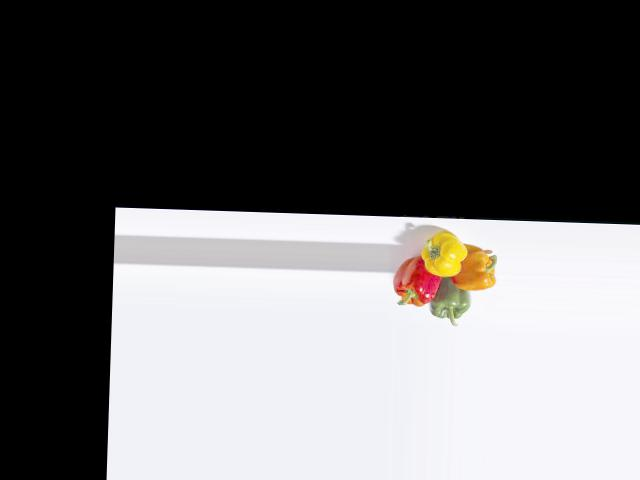bell_pepper: (390, 255, 441, 312)
